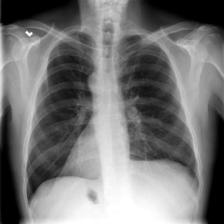normal: (20, 25, 204, 207)
